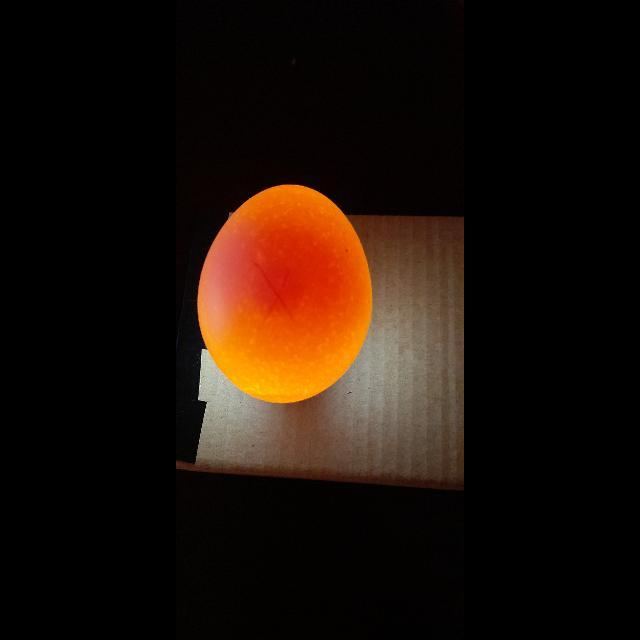Fertile: (198, 185, 374, 402)
